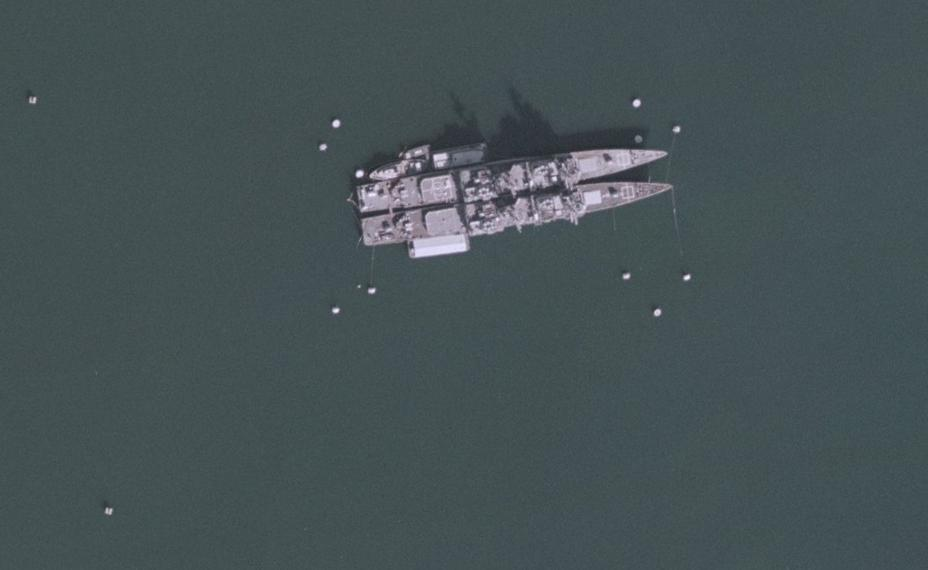cruiser: (356, 180, 671, 256), (351, 142, 670, 216)
